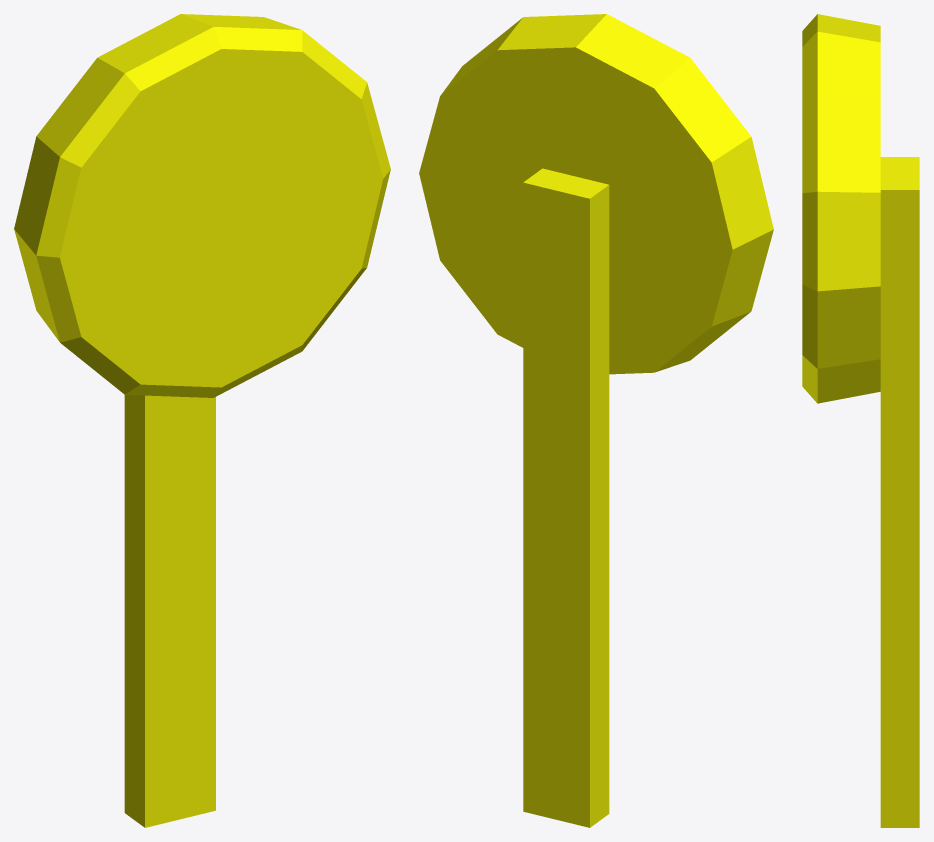
The model's file is kaykit-target-small.glb.
3 renders of one model, left to right at view 1: azimuth 30°, elevation 25°; view 2: azimuth 150°, elevation 25°; view 3: azimuth 270°, elevation 25°, orthographic. The views are drawn at different scales.
Visible parts, largest first — view 1: target_small; view 2: target_small; view 3: target_small.
Boxes of the visible parts, box(x1,y1,x2,y2) form: target_small: box(14, 14, 390, 827); target_small: box(419, 14, 773, 827); target_small: box(802, 14, 919, 827).
Bounding box in the file's own units: 0.5 × 1.1 × 0.15.
